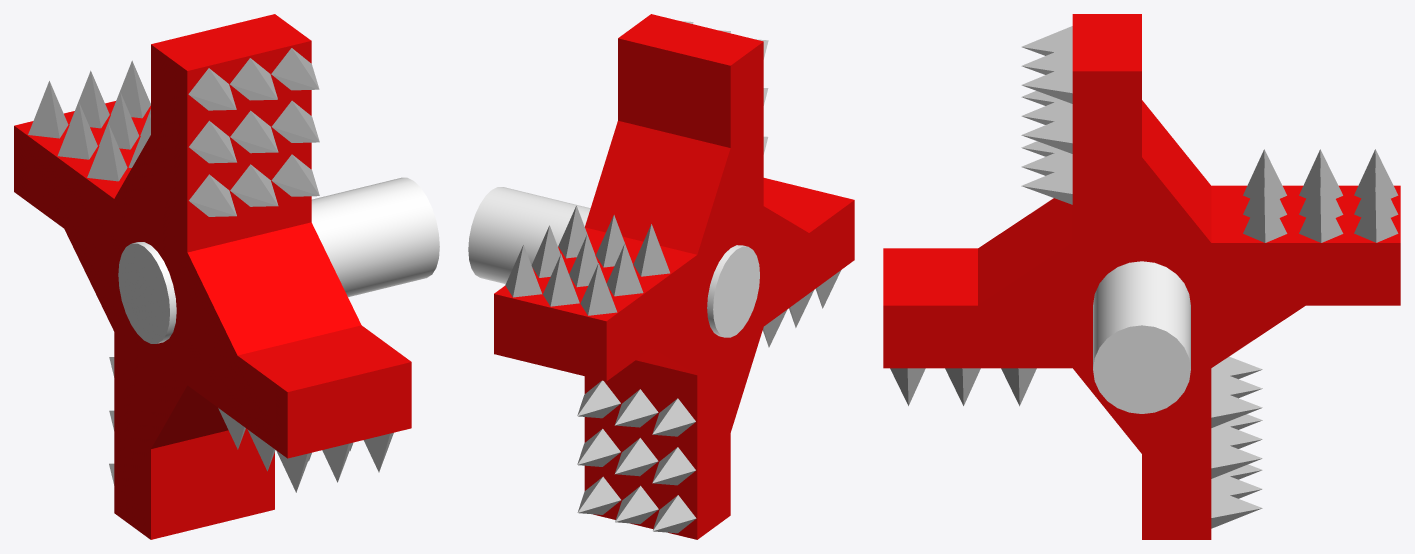
The model's file is BLADED.fbx.
The picture shows the model from 3 angles, left to right: view 1: azimuth 30°, elevation 25°; view 2: azimuth 150°, elevation 25°; view 3: azimuth 270°, elevation 25°; orthographic projection. The views are drawn at different scales.
Visible parts, largest first — view 1: blade9, Group2, blade12, blade10, blade11, blade4, blade8, blade1, blade5, blade6, blade3, Group_28_31 (+18 smaller); view 2: blade12, blade11, blade10, Group2, blade9, blade5, blade1, blade6, blade7, blade2, blade3, blade8 (+18 smaller); view 3: blade4, blade1, blade2, Group2, blade3, blade8, blade9, blade5, blade12, blade7, blade11, Group_28_6 (+25 smaller).
Part boxes in pixels (box(x1,y1,x2,y2)): blade9: box(169, 242, 328, 458); Group2: box(118, 177, 439, 343); blade12: box(114, 34, 228, 271); blade10: box(114, 317, 212, 539); blade11: box(14, 121, 131, 331); blade4: box(270, 222, 411, 438); blade8: box(229, 232, 370, 448); blade1: box(234, 14, 311, 232); blade5: box(192, 24, 270, 242); blade6: box(192, 404, 233, 529); blade3: box(233, 428, 274, 519); Group_28_31: box(28, 81, 68, 138); blade12: box(660, 32, 763, 272); blade11: box(569, 246, 713, 381); blade10: box(659, 313, 763, 539); Group2: box(468, 187, 759, 337); blade9: box(748, 190, 854, 326); blade5: box(622, 23, 725, 244); blade1: box(585, 14, 688, 235); blade6: box(622, 360, 659, 528); blade7: box(531, 236, 658, 372); blade2: box(494, 227, 605, 362); blade3: box(584, 370, 622, 519); blade8: box(763, 181, 816, 216); blade4: box(883, 224, 1107, 368); blade1: box(1072, 52, 1211, 273); blade2: box(1176, 223, 1400, 368); Group2: box(1093, 261, 1190, 413); blade3: box(1073, 350, 1211, 539); blade8: box(883, 205, 1072, 286); blade9: box(883, 198, 1071, 267); blade5: box(1072, 33, 1211, 223); blade12: box(1072, 14, 1211, 204); blade7: box(1211, 204, 1400, 223); blade11: box(1211, 185, 1400, 204); Group_28_6: box(1243, 187, 1287, 242).
Size of the model in its own units: 163 by 286 by 286.
